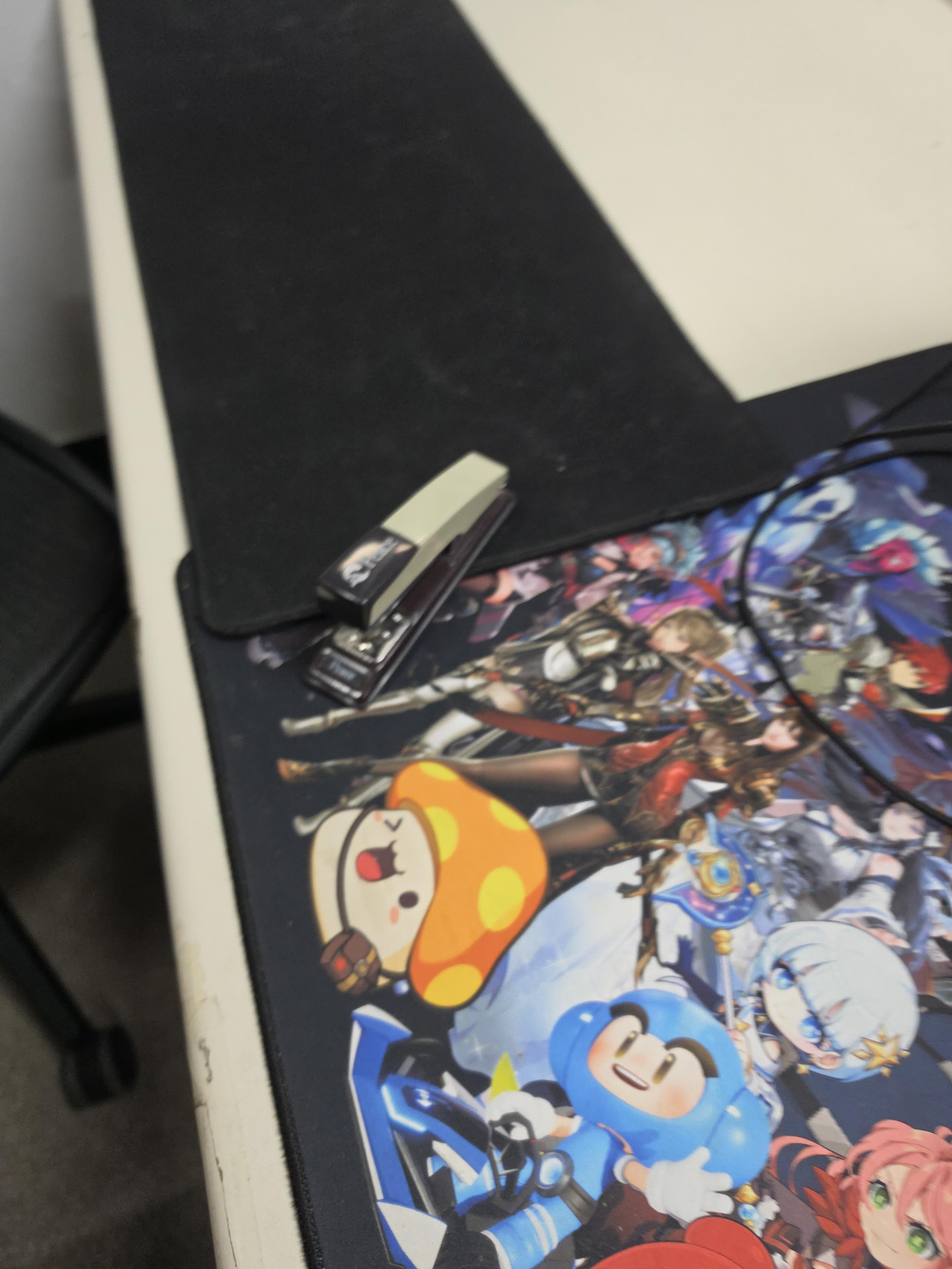stapler: (303, 450, 517, 708)
